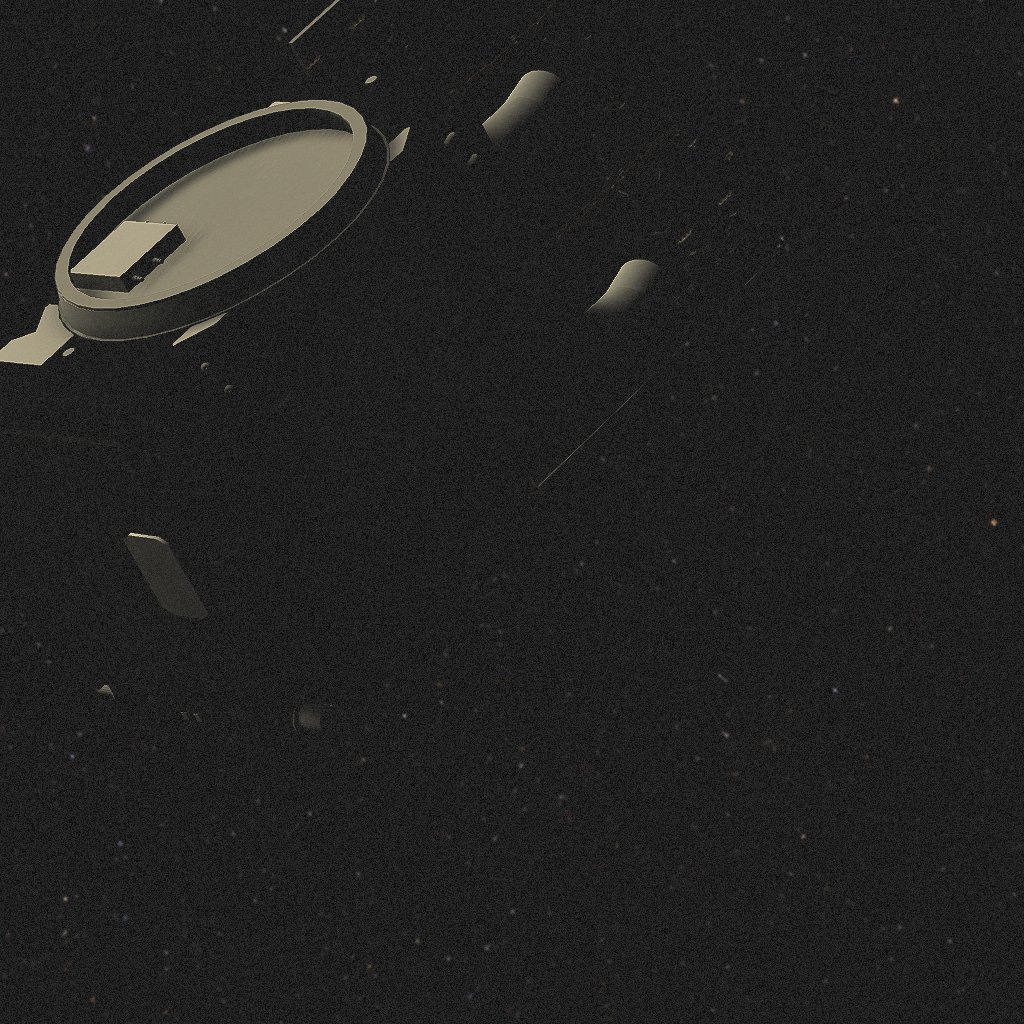proba_3_csc: (0, 0, 785, 745)
